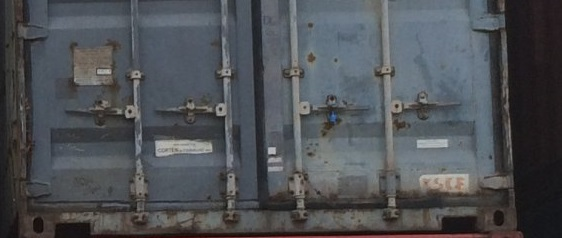container_door: (19, 4, 512, 235)
